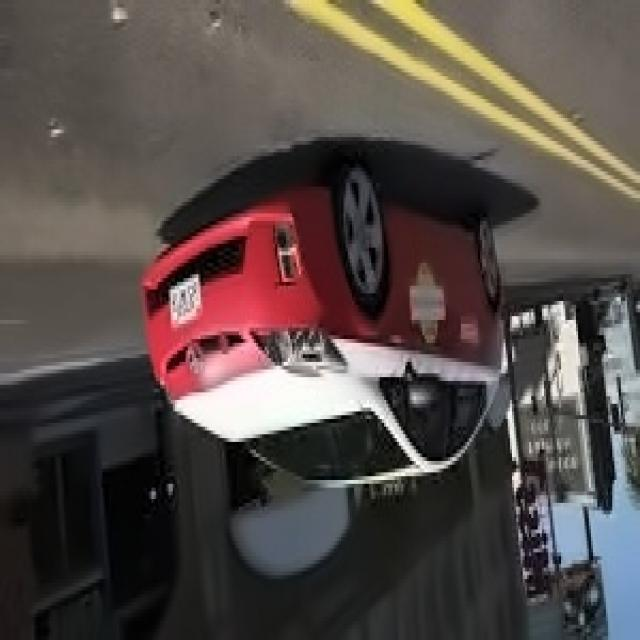car-plate: (168, 270, 206, 328)
